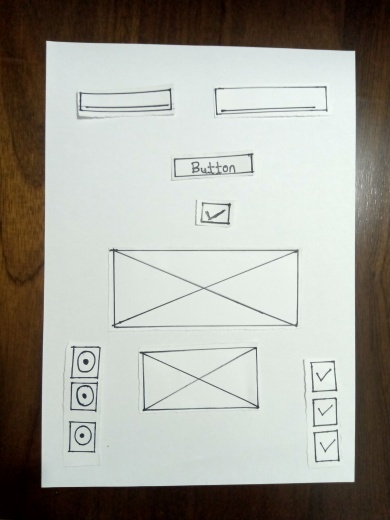button: (170, 157, 254, 175)
checkbox: (308, 399, 343, 427), (315, 432, 341, 464), (312, 363, 336, 391), (199, 202, 228, 223)
img: (114, 247, 299, 328), (137, 345, 257, 413)
radio: (69, 345, 97, 381), (70, 420, 98, 456), (71, 382, 96, 412)
text: (218, 87, 332, 116), (79, 93, 172, 112)
